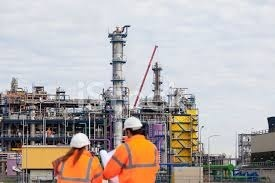helmet: (69, 131, 94, 149), (122, 116, 146, 132)
person with full safety: (107, 116, 164, 183), (57, 132, 104, 182)
safety vest: (115, 136, 156, 182), (61, 150, 92, 181)
